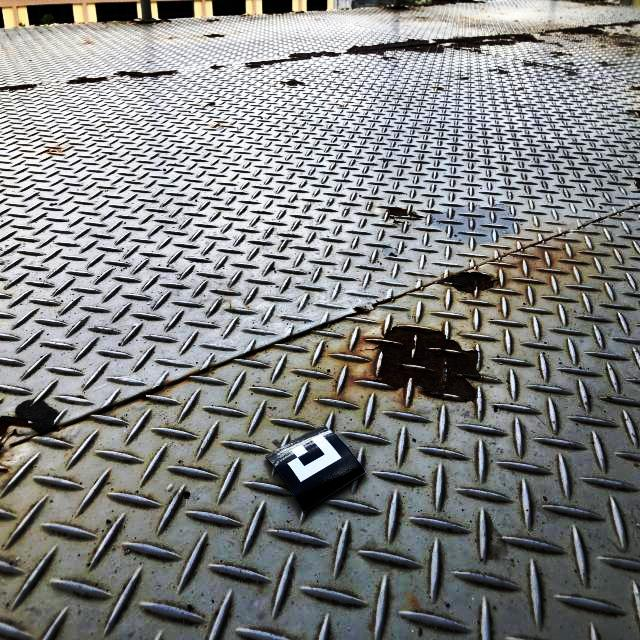Corrosion: (361, 325, 482, 403), (343, 34, 545, 60), (0, 416, 31, 474), (245, 51, 342, 69), (437, 271, 500, 294), (546, 21, 640, 35), (386, 208, 425, 224), (113, 70, 178, 79), (66, 76, 108, 85), (0, 83, 38, 92), (131, 19, 171, 25), (575, 1, 618, 6), (280, 80, 306, 87), (45, 147, 65, 154), (550, 51, 572, 57), (354, 306, 369, 314), (203, 33, 225, 38), (210, 65, 225, 70), (564, 70, 576, 76), (620, 42, 634, 47), (524, 62, 538, 67), (385, 7, 407, 10), (634, 177, 640, 188), (499, 69, 509, 74), (628, 86, 640, 90), (631, 110, 640, 115), (205, 103, 216, 107), (565, 62, 575, 66), (207, 19, 219, 22), (601, 62, 609, 66), (462, 76, 468, 80), (438, 87, 442, 90)
